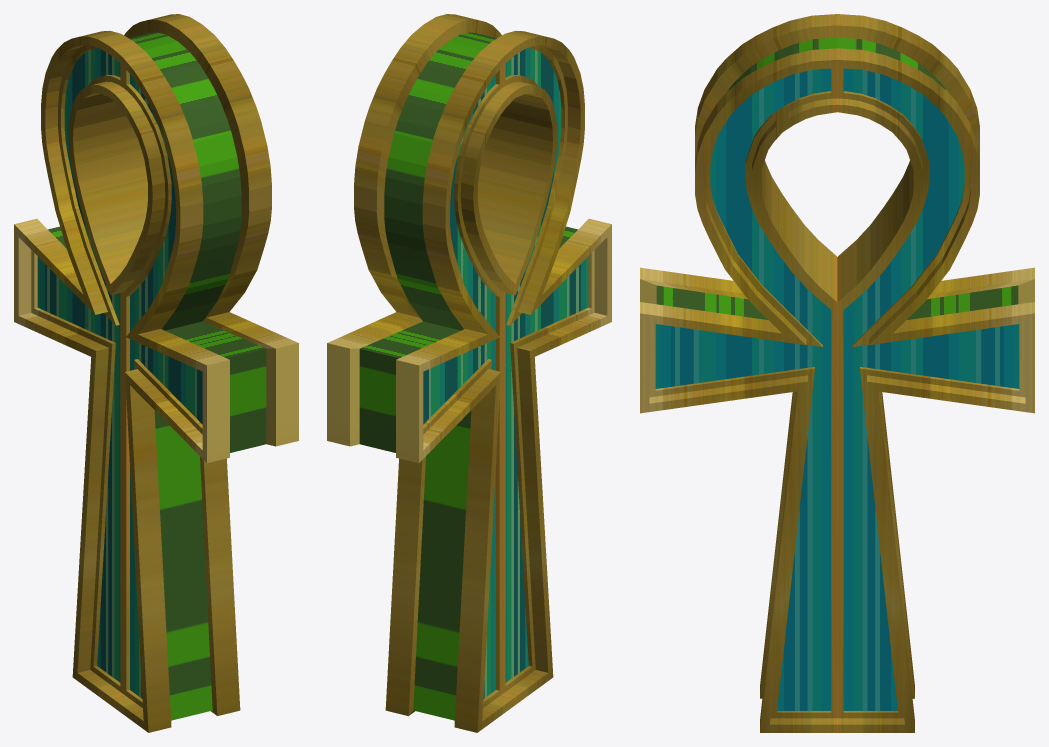
The model's file is Item_Nummer_1.fbx.
The picture shows the model from 3 angles, left to right: view 1: azimuth 30°, elevation 25°; view 2: azimuth 150°, elevation 25°; view 3: azimuth 270°, elevation 25°; orthographic projection. The views are drawn at different scales.
Visible parts, largest first — view 1: Plane.005; view 2: Plane.005; view 3: Plane.005.
Boxes of the visible parts, x1,y1,x2,y2 form: Plane.005: [14, 14, 298, 732]; Plane.005: [327, 14, 611, 732]; Plane.005: [640, 14, 1034, 732].
Size of the model in its own units: 11.96 by 82 by 43.57.
Materials: 4 (4 with a texture image).
